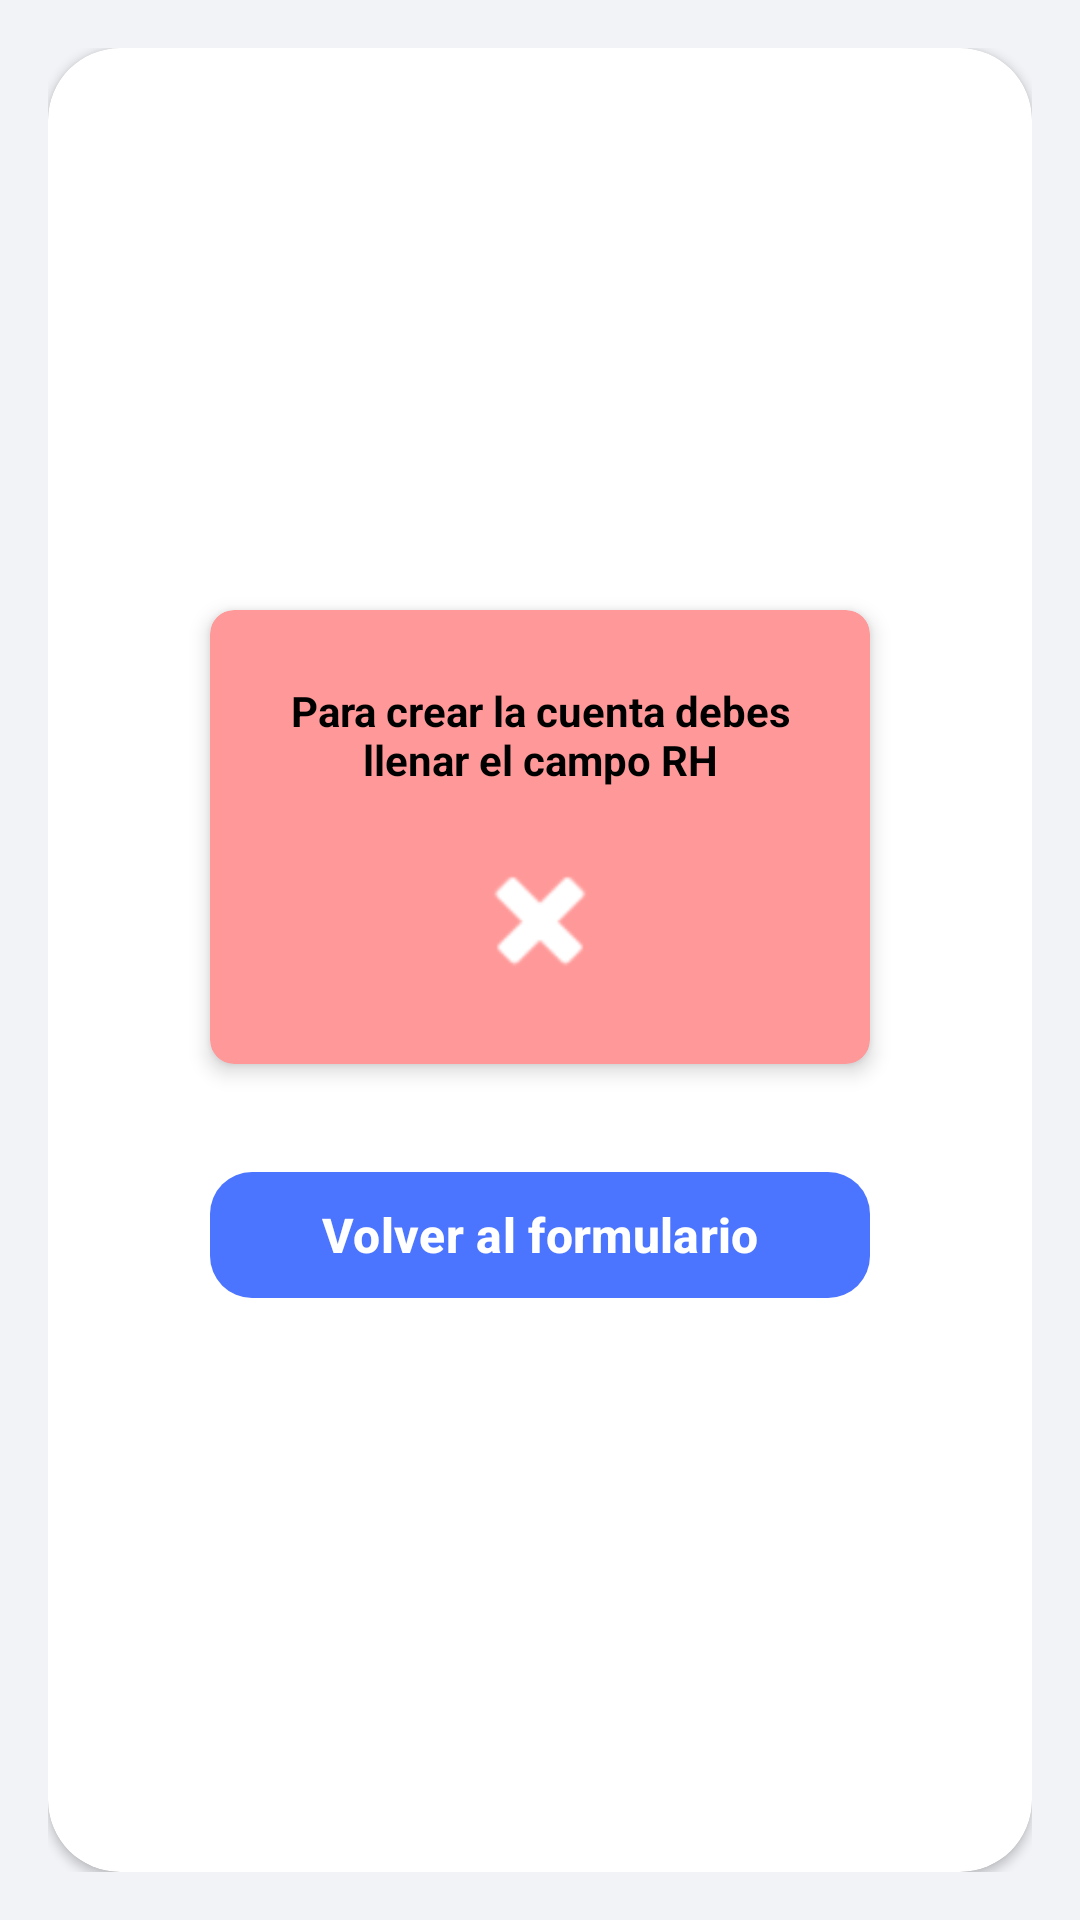

Icons on this 1080w x 1920h Android screen, each with the point to tap as point (x, y):
Error: point (540, 921)
